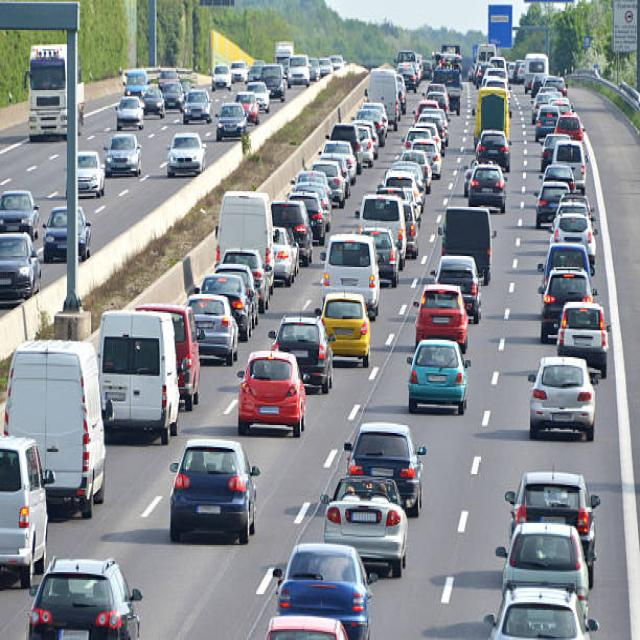16-Wheelers: (25, 42, 84, 140)
Ad-signs: (611, 0, 637, 52)
Car: (504, 469, 600, 588), (168, 438, 260, 544), (26, 554, 142, 638), (272, 542, 372, 638), (319, 474, 408, 578), (343, 420, 427, 517), (527, 355, 601, 441), (236, 349, 306, 436), (484, 585, 598, 638), (268, 312, 332, 394), (406, 338, 470, 414), (555, 300, 610, 378), (539, 267, 594, 343), (317, 290, 370, 366), (185, 292, 239, 365), (413, 283, 469, 352), (0, 231, 41, 302), (42, 205, 91, 262), (265, 613, 348, 639), (0, 190, 39, 240), (166, 131, 206, 177), (103, 133, 142, 177), (214, 101, 247, 141), (181, 88, 211, 124), (115, 94, 143, 130), (211, 63, 231, 90)
Traffic-sign: (487, 3, 512, 48)
